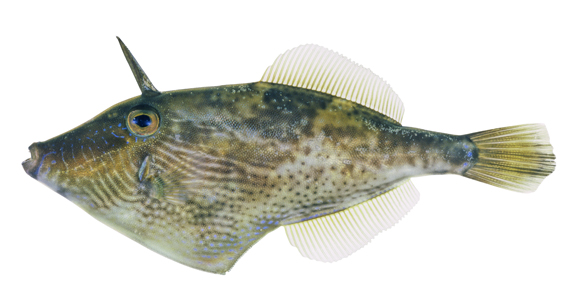fish: (21, 36, 557, 276)
